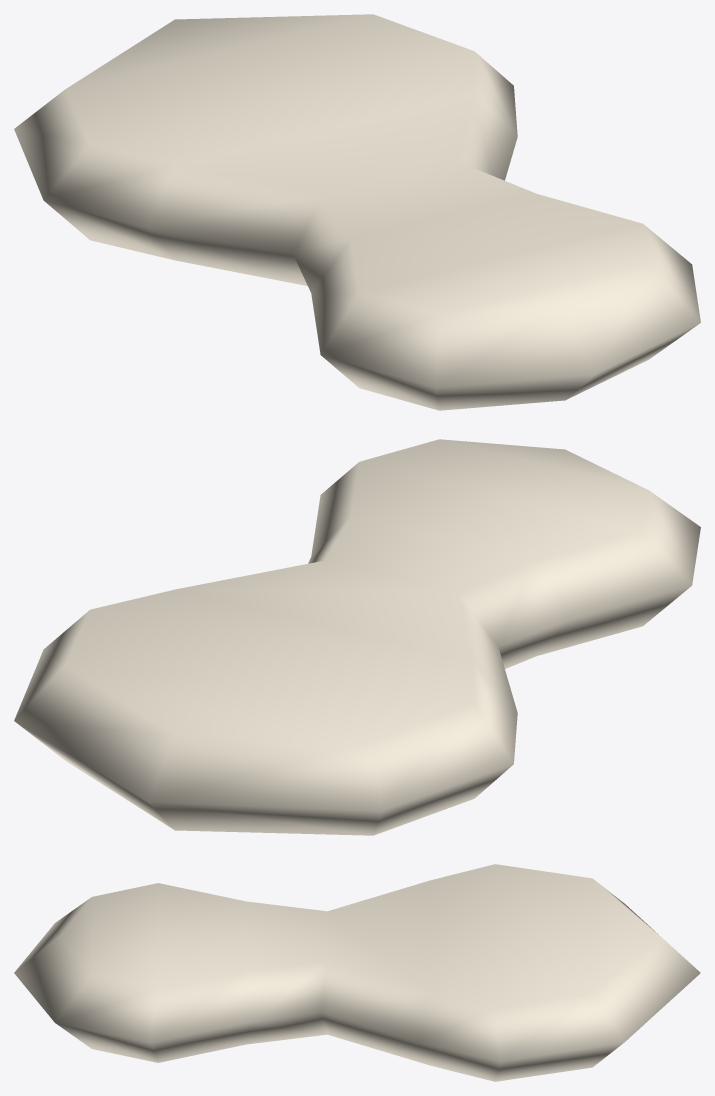
File: Dough_2.fbx
3 views of the same model, one above another, from view 1: azimuth 30°, elevation 25°; view 2: azimuth 150°, elevation 25°; view 3: azimuth 270°, elevation 25° (orthographic). The views are drawn at different scales.
Parts seen in each view (by area): view 1: Dough_2; view 2: Dough_2; view 3: Dough_2.
Part boxes in pixels (x1,y1,x2,y2): Dough_2: [14, 14, 700, 410]; Dough_2: [14, 439, 700, 835]; Dough_2: [14, 864, 700, 1081].
Bounding box in the file's own units: 15.5 × 3 × 25.46.
Materials: 1 (1 with a texture image).
